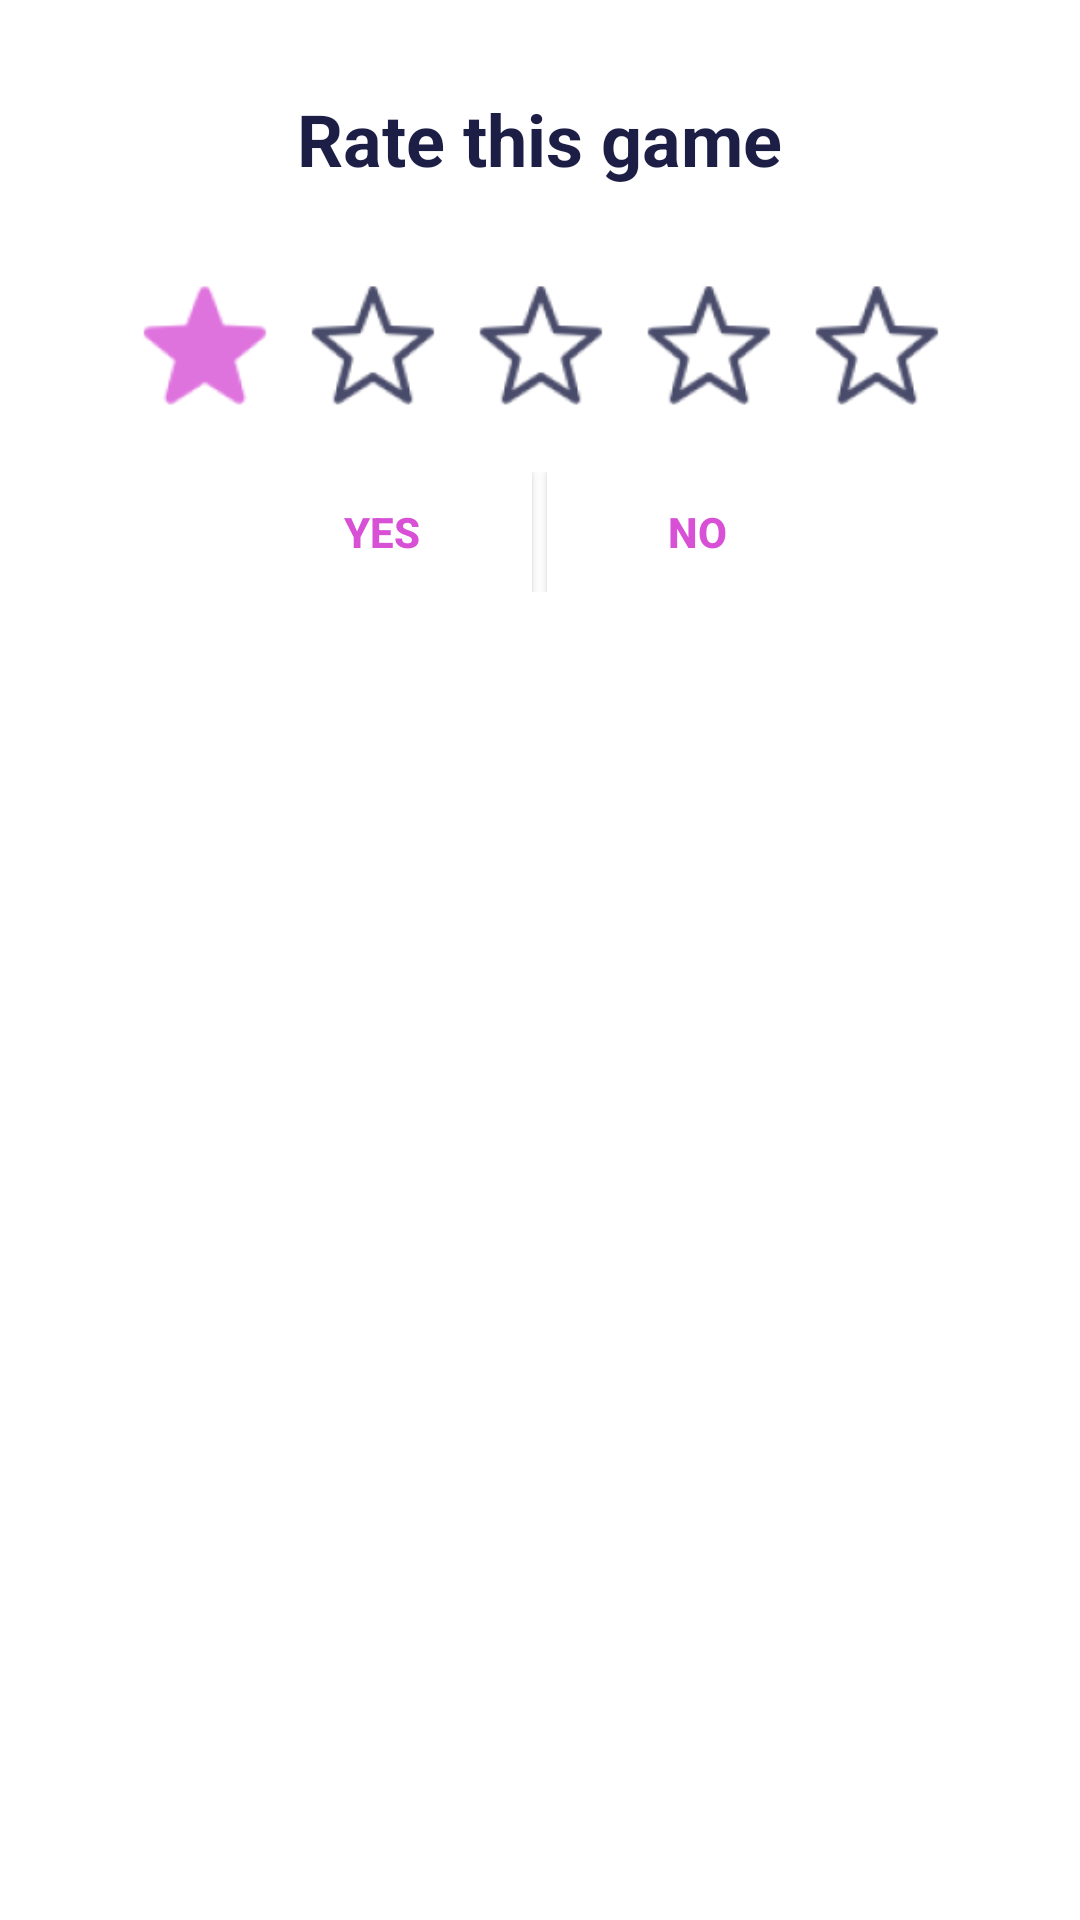

Where icons sit on this 1080px×1920px app screen, as (x1, y1, x2, y2):
star: (143, 286, 266, 405), (311, 286, 435, 405), (479, 286, 603, 405), (647, 286, 771, 405), (815, 286, 939, 405)
